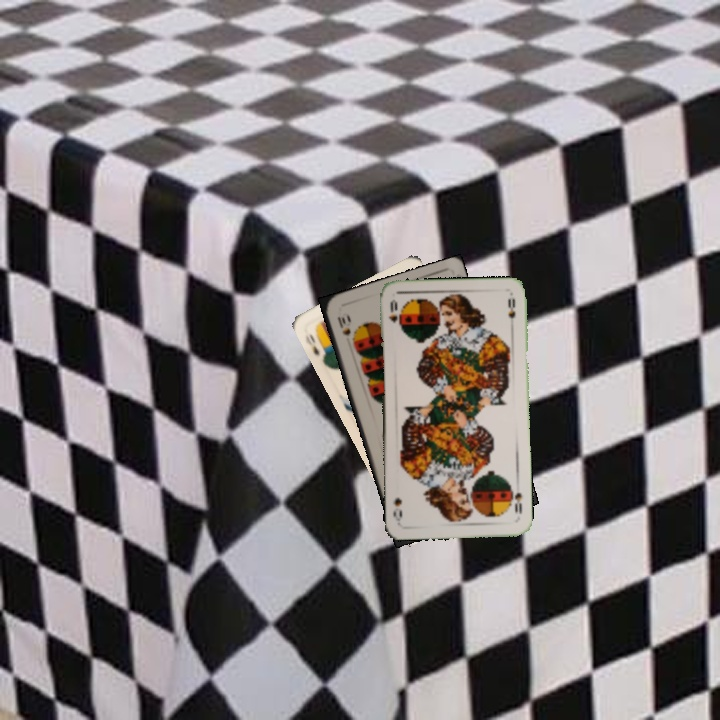EO: (301, 324, 329, 363)
S10: (333, 313, 353, 339)
SO: (384, 295, 400, 325), (511, 489, 524, 516)
